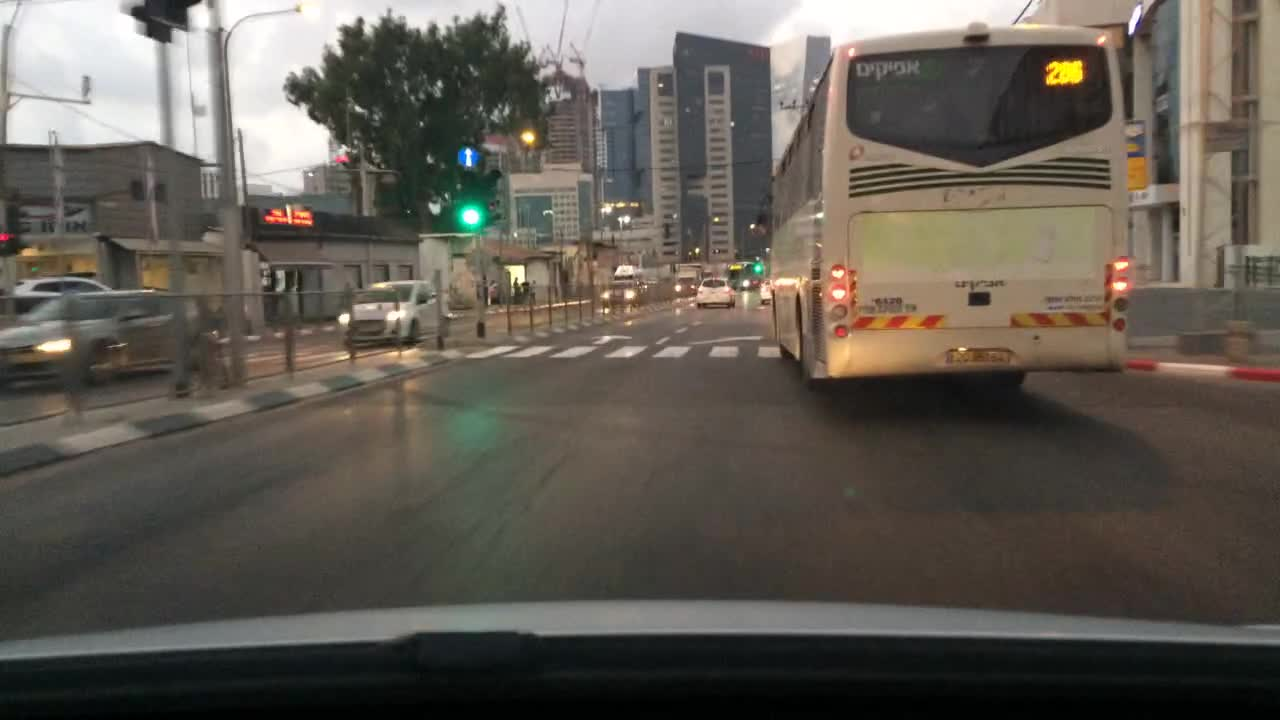bus: (758, 23, 1132, 400)
car: (0, 289, 194, 382), (340, 277, 448, 349), (0, 277, 116, 298), (693, 273, 736, 307), (603, 280, 646, 303), (729, 273, 764, 291), (760, 275, 771, 303)
person: (527, 280, 538, 306), (480, 272, 488, 307), (488, 278, 498, 306), (512, 276, 521, 303)
traffic light: (130, 2, 196, 39), (479, 165, 506, 226), (459, 170, 481, 230), (1, 207, 17, 254), (13, 207, 30, 251), (128, 176, 145, 203), (154, 181, 168, 206), (661, 214, 671, 243), (748, 259, 764, 274), (733, 247, 741, 259)
traffic sign: (456, 146, 480, 169)
truck: (671, 263, 704, 297), (613, 261, 644, 283)
